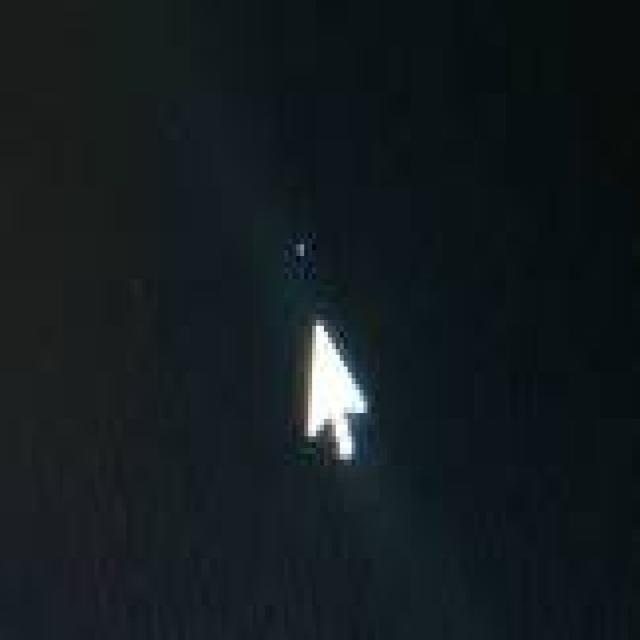dead_pixel: (279, 226, 319, 278)
